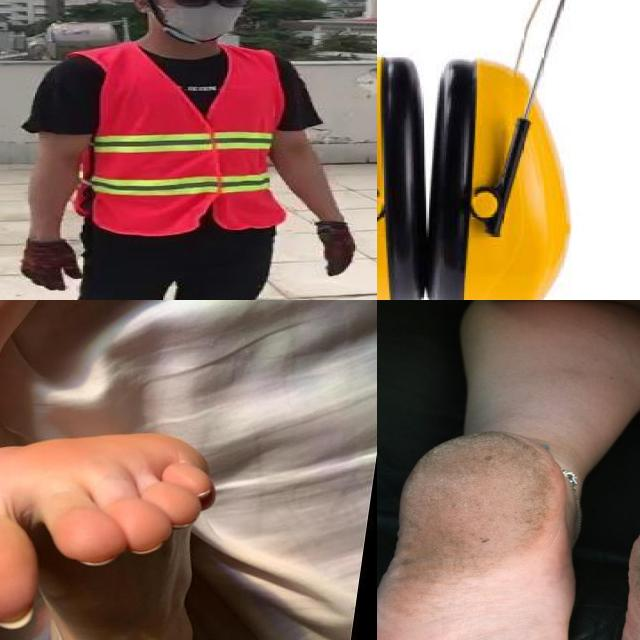Barefoots: (0, 402, 249, 640), (377, 430, 581, 640)
Ear-protection: (377, 0, 587, 300)
face_mask: (147, 0, 256, 43)
glasses: (162, 0, 258, 14)
hand_glove: (23, 239, 83, 291), (316, 221, 358, 276)
person: (3, 0, 371, 300)
vest: (72, 44, 286, 229)
